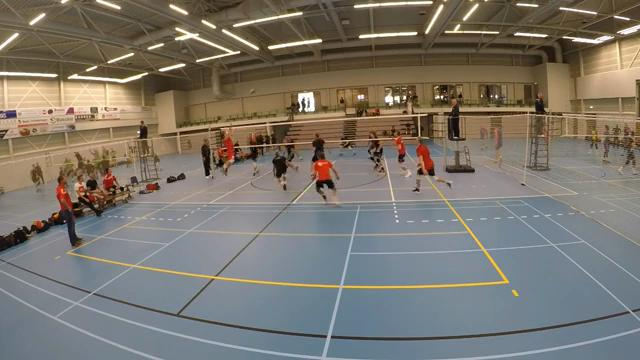Attack: (214, 119, 241, 176)
Player: (413, 139, 451, 192), (312, 152, 339, 203), (272, 151, 297, 190), (368, 131, 384, 172), (395, 136, 411, 177), (311, 133, 324, 171), (285, 136, 302, 161), (249, 133, 259, 175), (339, 135, 355, 155)
ball: (249, 88, 256, 94)
